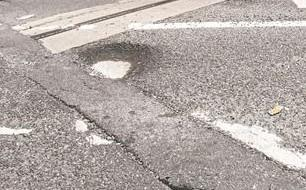crack: (21, 77, 211, 190)
pothole: (78, 46, 142, 83)
